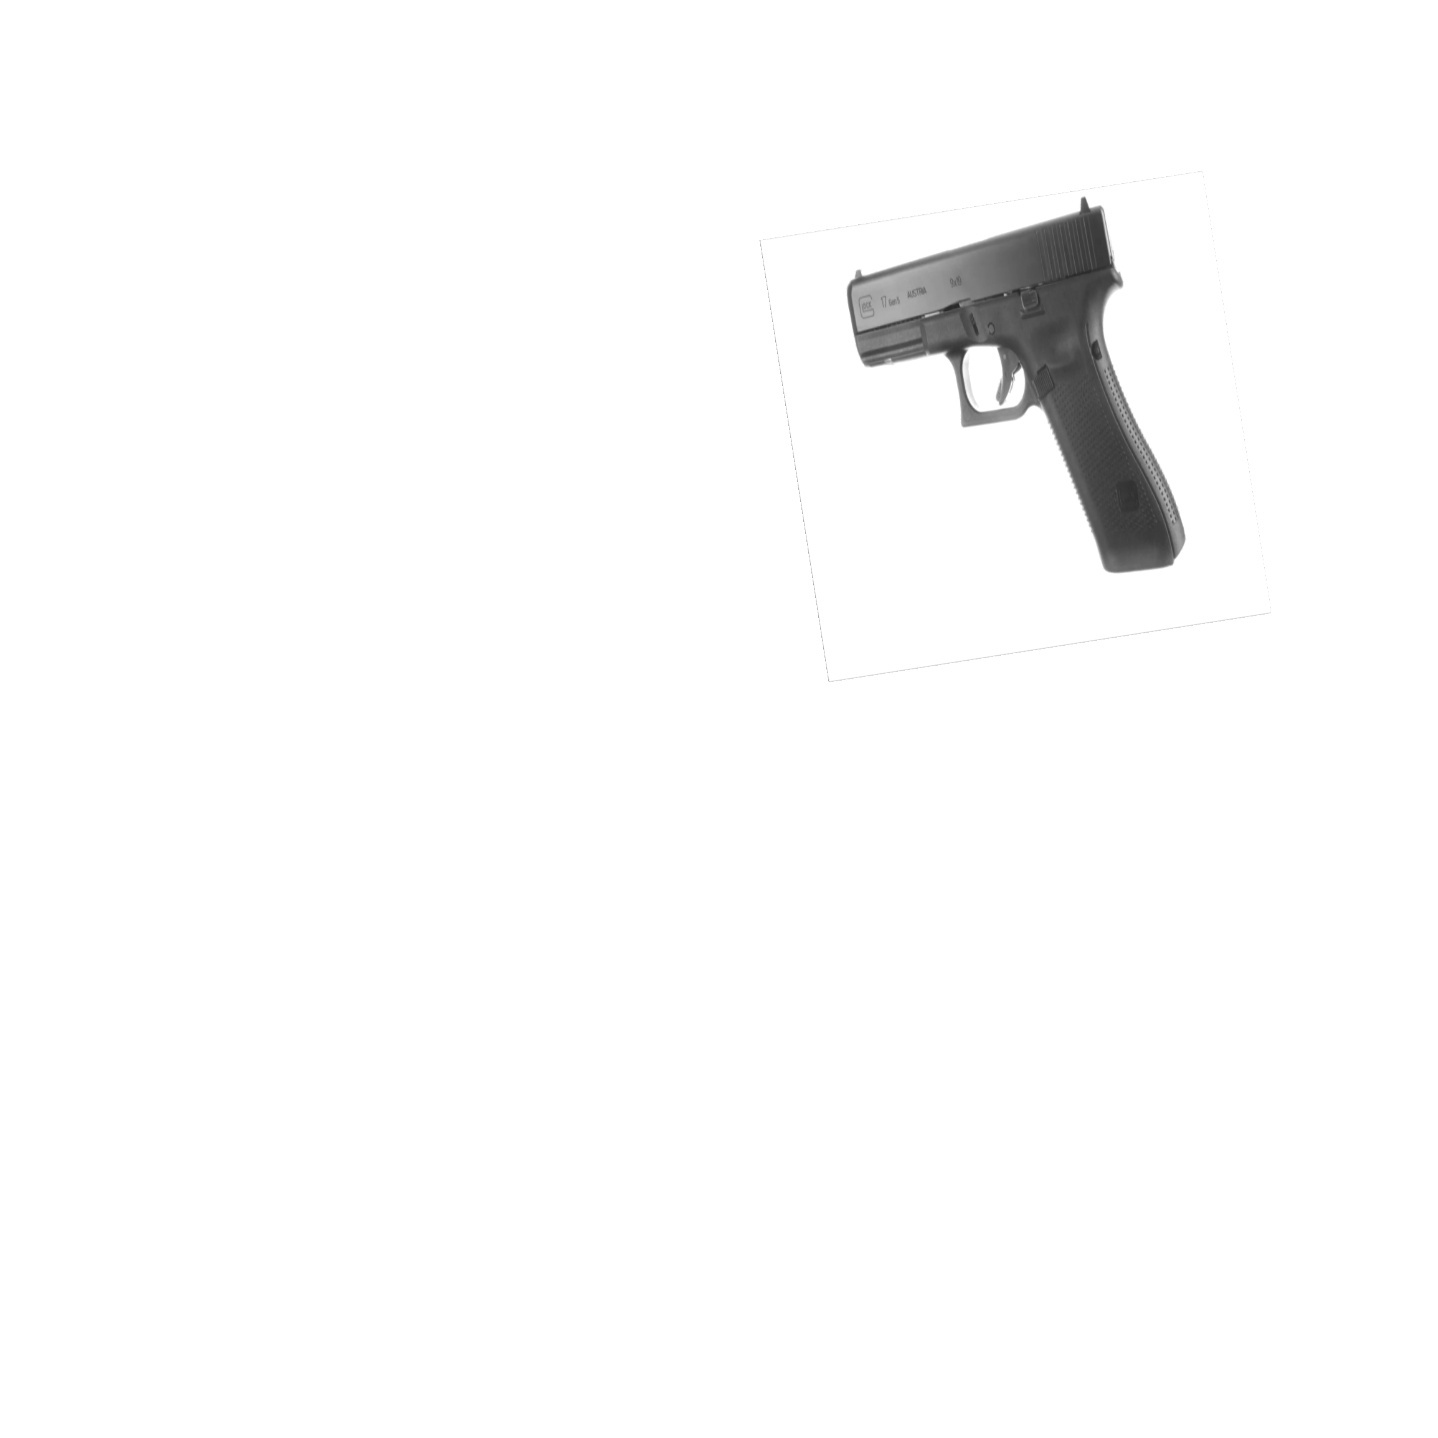gun: (831, 188, 1194, 586)
